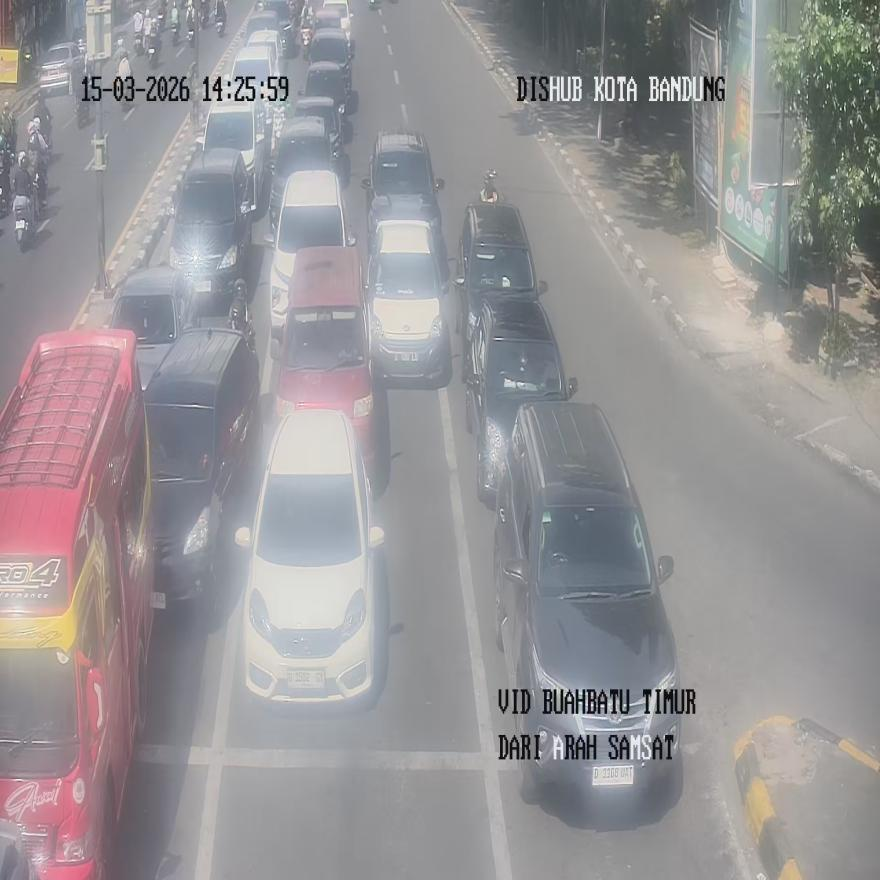Mobil: (492, 401, 682, 802), (235, 407, 384, 704), (142, 327, 260, 621), (463, 295, 578, 502), (272, 246, 377, 471), (267, 169, 357, 346), (364, 218, 454, 386), (454, 198, 547, 359), (169, 147, 255, 312), (108, 266, 199, 391), (267, 112, 348, 242), (361, 129, 444, 252), (196, 100, 266, 218)
Motor: (12, 191, 34, 251), (146, 16, 162, 68), (132, 9, 144, 56), (170, 5, 182, 44), (301, 22, 313, 60), (186, 4, 197, 45), (214, 0, 226, 35)
Truk ringan: (0, 327, 154, 875)
